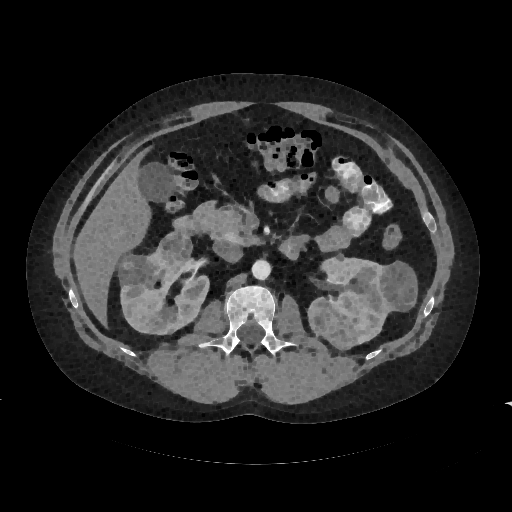Lesion: (376, 258, 420, 315), (112, 252, 154, 290)
